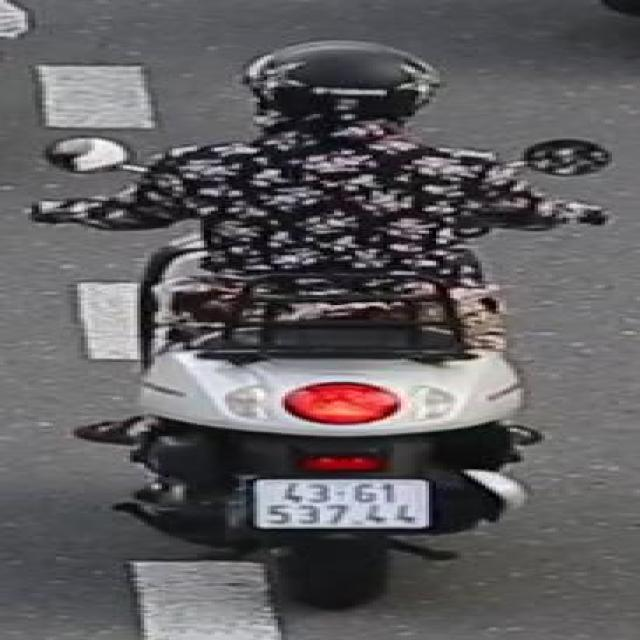LP: (250, 472, 440, 532)
helmet: (233, 36, 447, 142)
